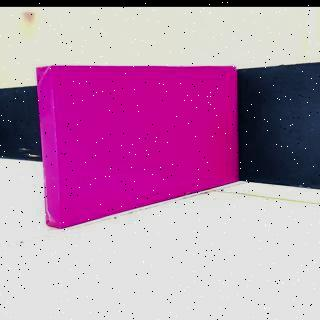xparking: (46, 69, 236, 215)
